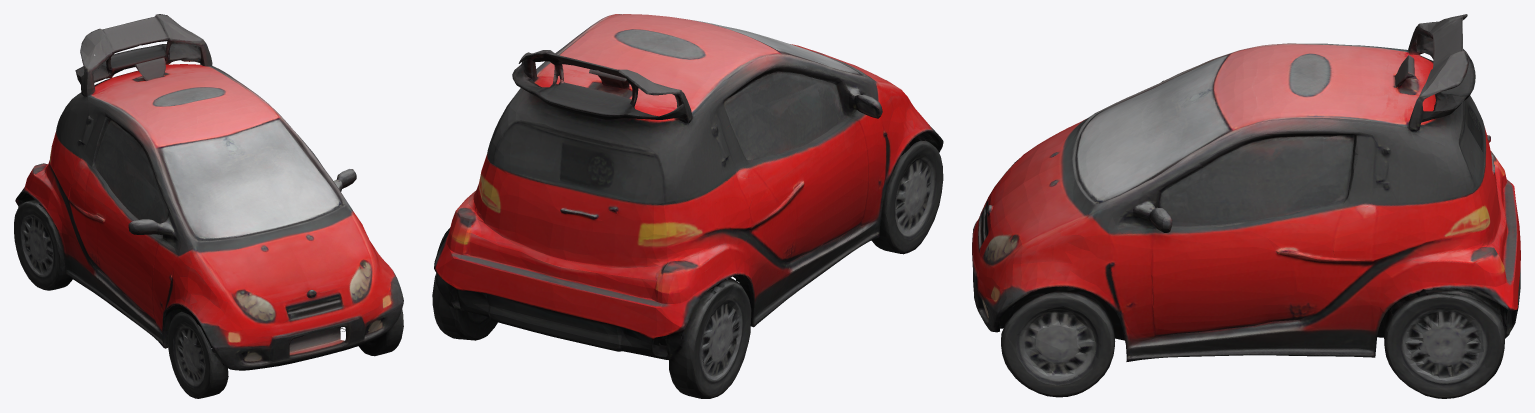
File: car_red.glb
The picture shows the model from 3 angles, left to right: view 1: azimuth 30°, elevation 25°; view 2: azimuth 150°, elevation 25°; view 3: azimuth 270°, elevation 25°; orthographic projection. The views are drawn at different scales.
Visible parts, largest first — view 1: world; view 2: world; view 3: world.
Boxes of the visible parts, left/top/right/bottom form: world: left=14, top=14, right=403, bottom=398; world: left=432, top=14, right=943, bottom=398; world: left=972, top=14, right=1520, bottom=398.
Size of the model in its own units: 0.6126 by 0.6147 by 0.9994.
Materials: 1 (1 with a texture image).
